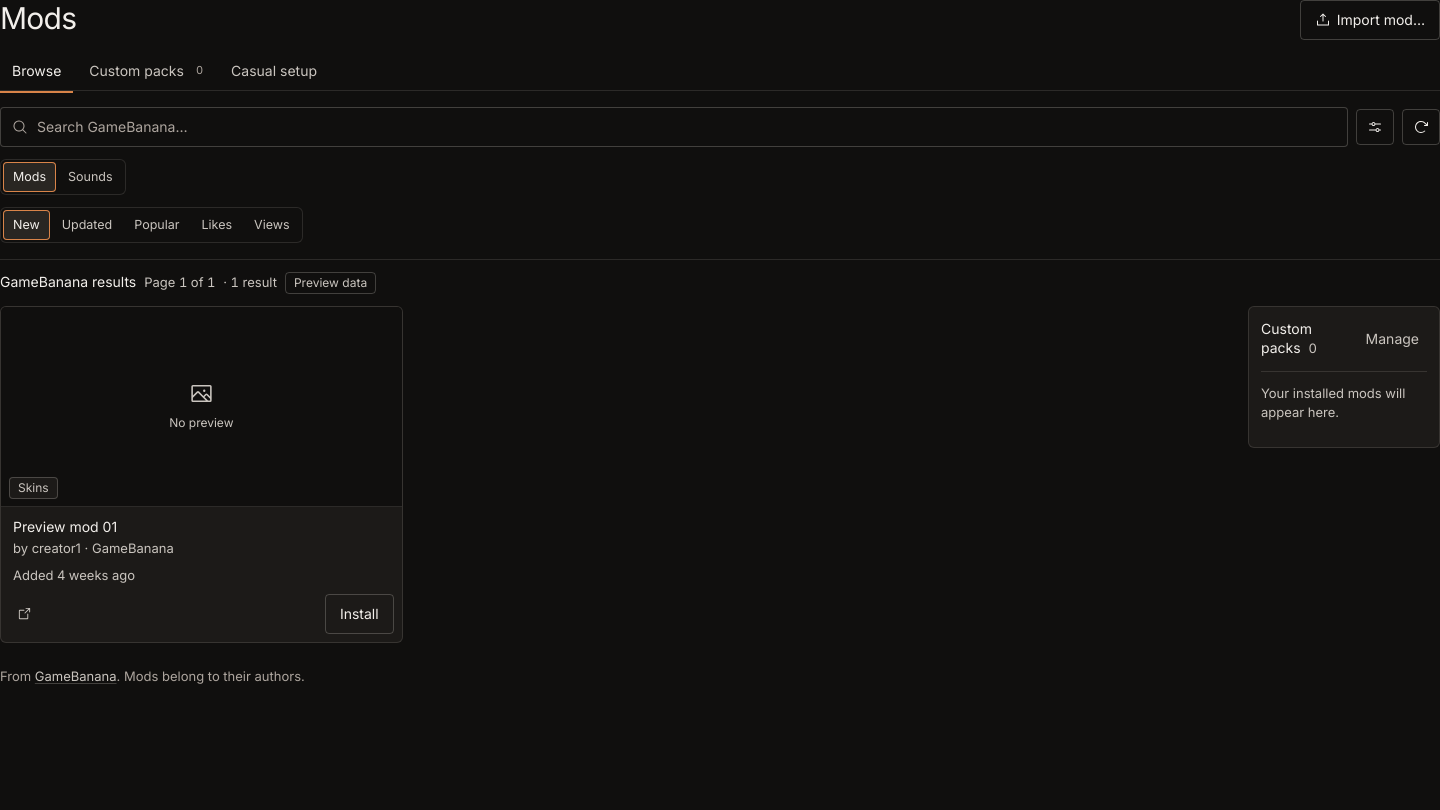
Test: Mods HUD recovery through the real settings host › clears a previous HUD import warning when a new archive attempt starts
Click the button "Import mod…". click: (1370, 20)
box: [1300, 0, 1439, 40]
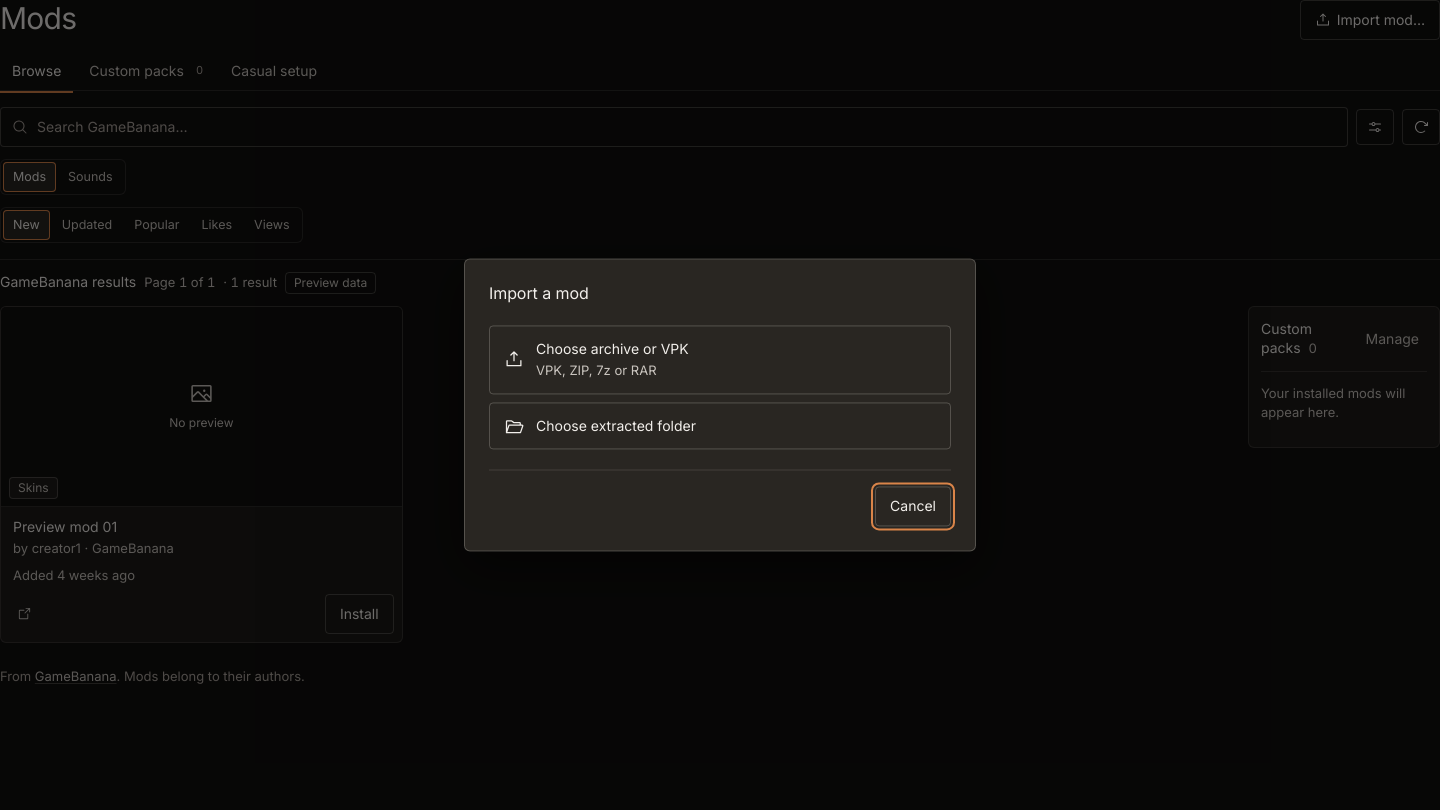
Click the button "Choose archive or VPK VPK, ZIP, 7z or RAR". click: (612, 349)
box: [489, 325, 951, 394]
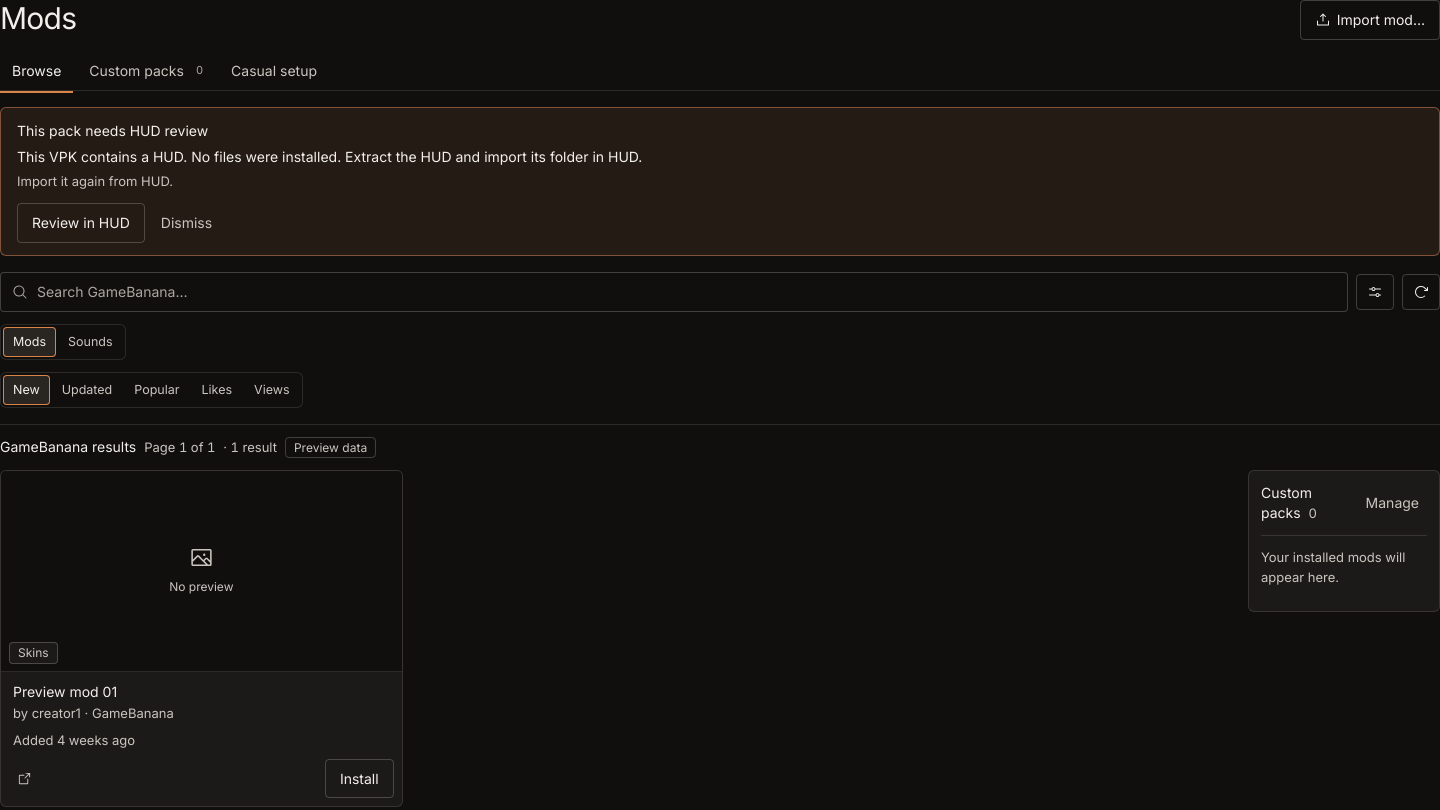
Result: the message with test id "mods-hud-import-required" shows "This VPK contains a HUD. No files were installed. Extract the HUD and import its folder in HUD." at [17, 148, 642, 165]
Result: the number of messages is 1 at [0, 107, 1439, 256]
Click the button "Import mod…". click: (1370, 20)
box: [1300, 0, 1439, 40]
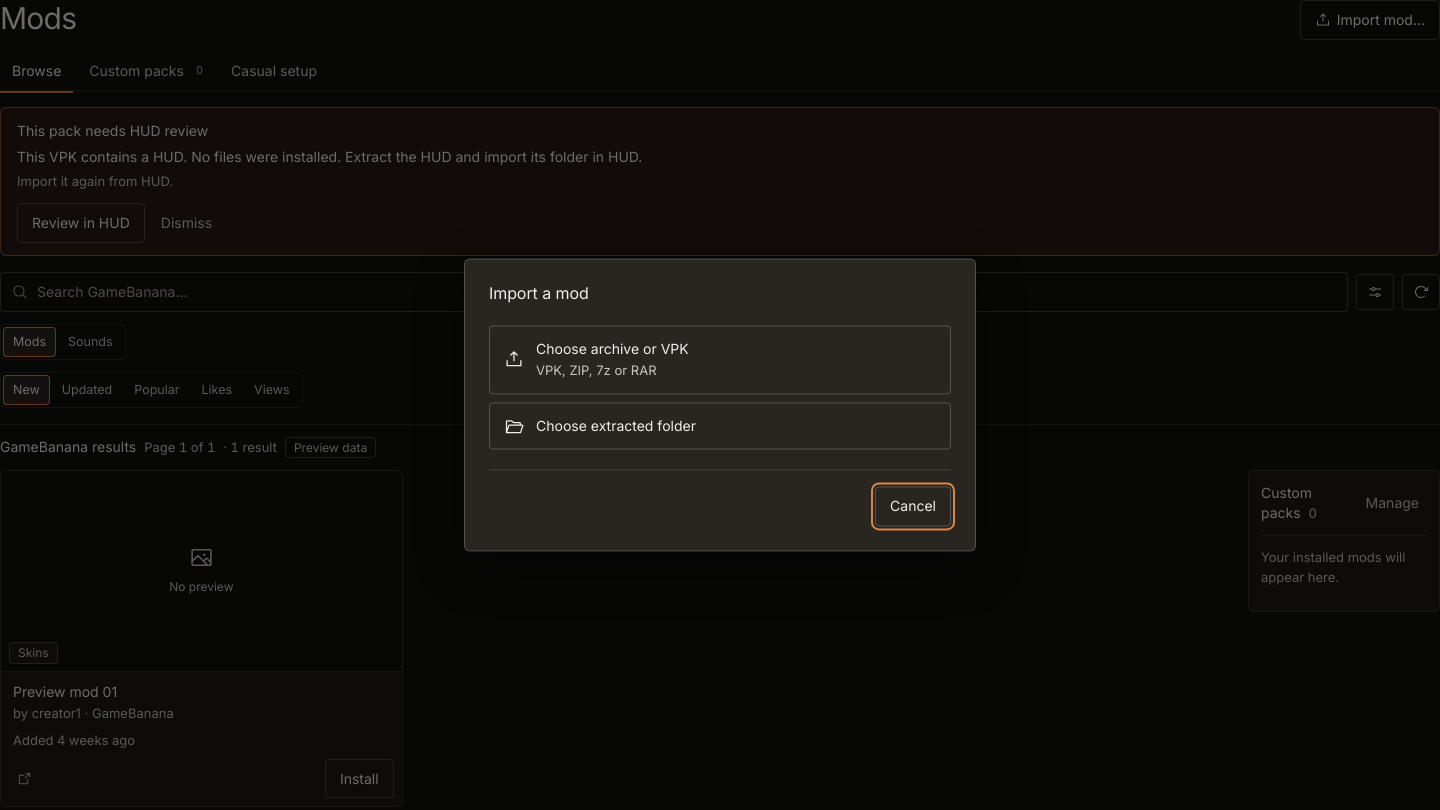
Click the button "Choose archive or VPK VPK, ZIP, 7z or RAR". click: (612, 349)
box: [489, 325, 951, 394]
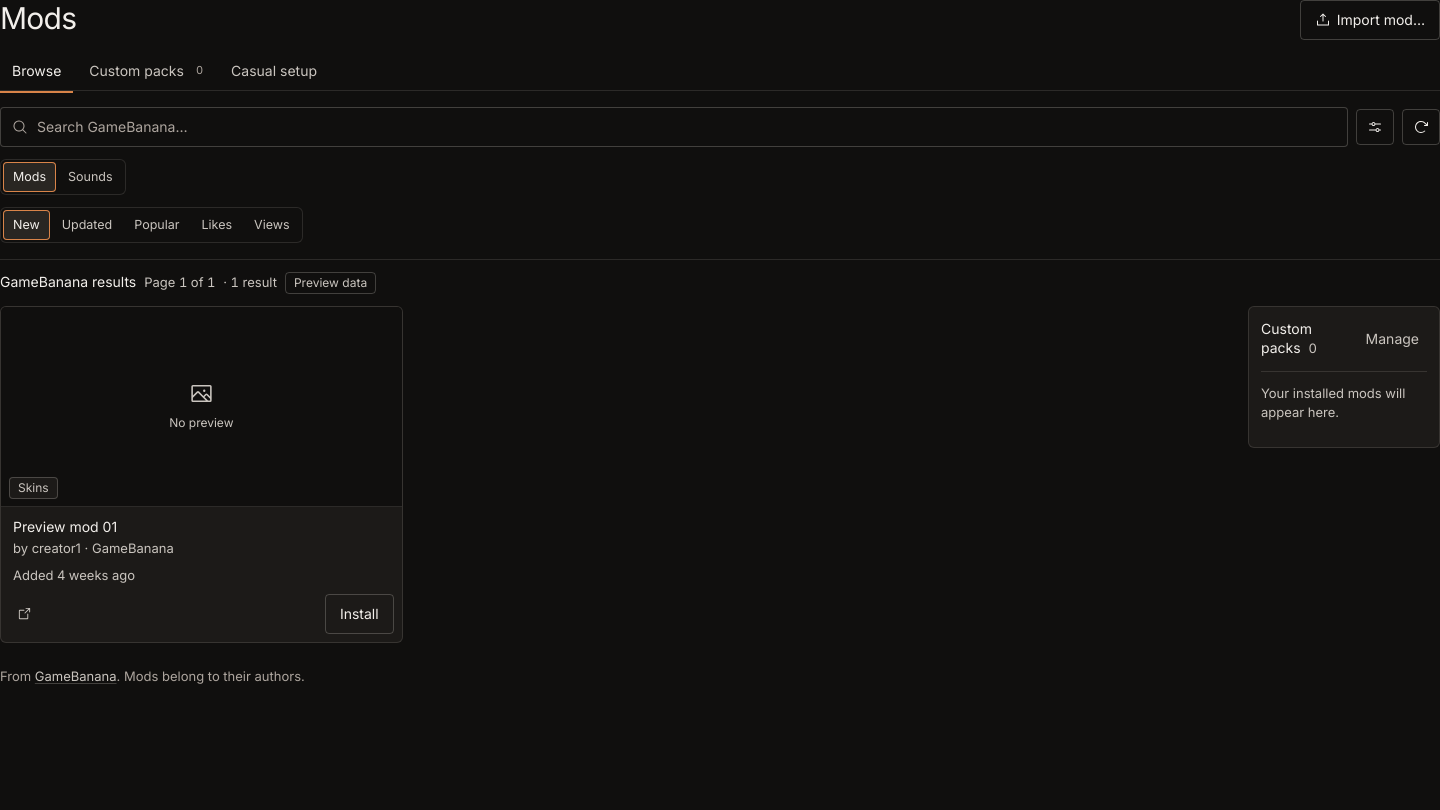
Result: the message with test id "mods-hud-import-required" is gone
